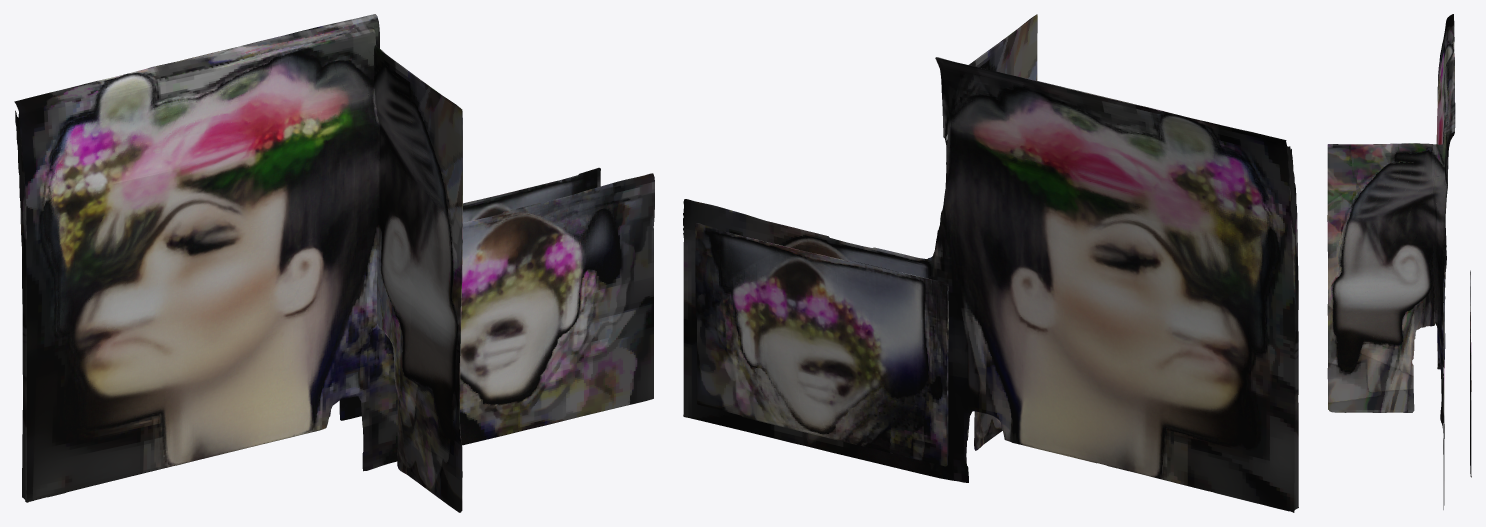
The model's file is trellis_result.glb.
3 views of the same model, side by side, from view 1: azimuth 30°, elevation 25°; view 2: azimuth 150°, elevation 25°; view 3: azimuth 270°, elevation 25° (orthographic). The views are drawn at different scales.
Parts seen in each view (by area): view 1: world; view 2: world; view 3: world.
Part boxes in pixels (<box>): world: <box>14,14,654,512</box>; world: <box>683,14,1298,512</box>; world: <box>1327,14,1471,509</box>.
Size of the model in its own units: 1 by 0.6745 by 0.2982.
Materials: 1 (1 with a texture image).
